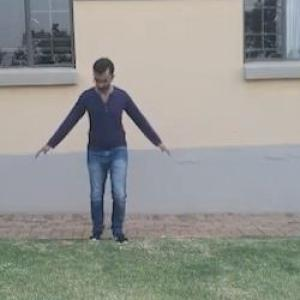land: (31, 54, 178, 247)
